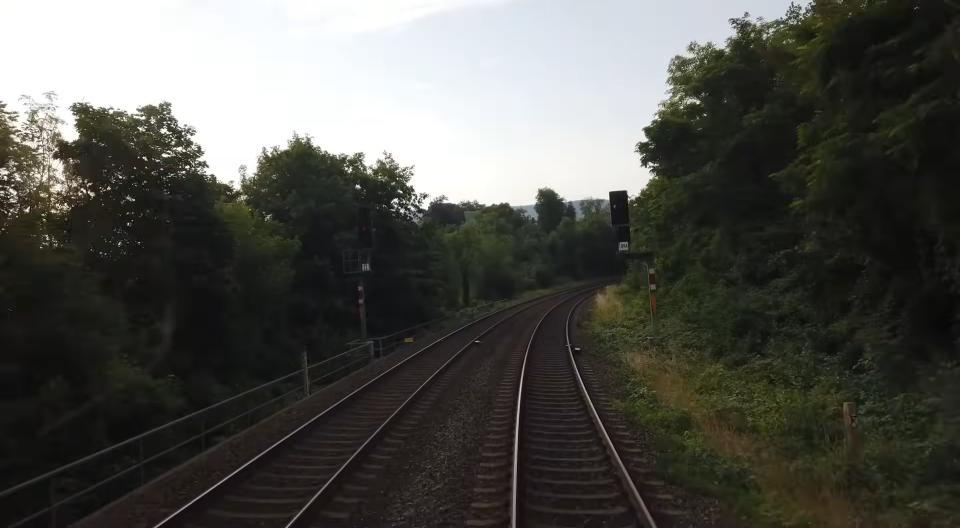Plant: (586, 289, 888, 528)
